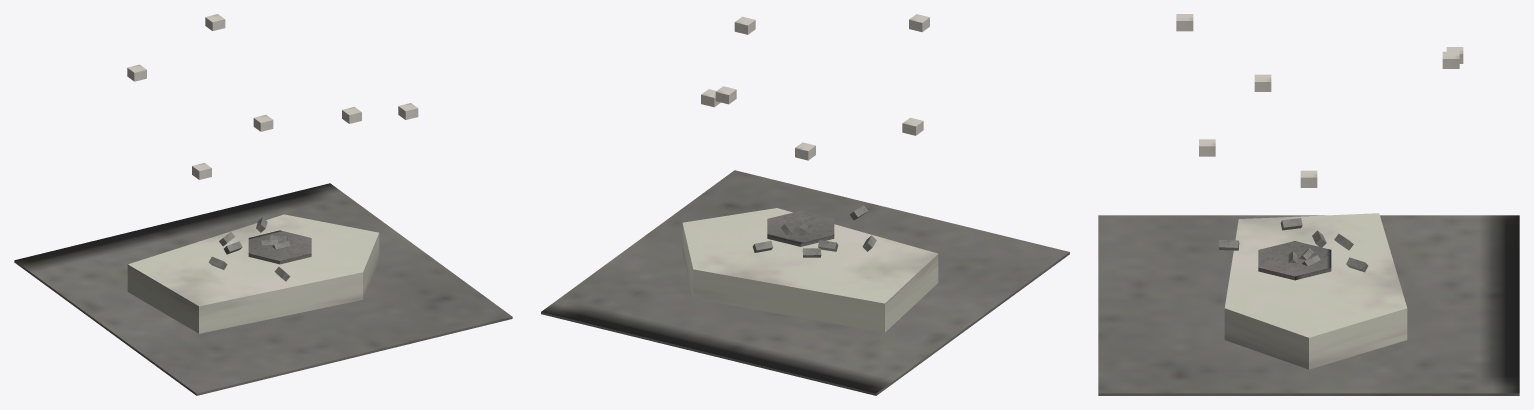
File: steak_rotten.fbx
3 views of the same model, side by side, from view 1: azimuth 30°, elevation 25°; view 2: azimuth 150°, elevation 25°; view 3: azimuth 270°, elevation 25° (orthographic). The views are drawn at different scales.
Visible parts, largest first — view 1: steak_rotten, steak_rotten_flies; view 2: steak_rotten, steak_rotten_flies; view 3: steak_rotten, steak_rotten_flies.
Part boxes in pixels (x1,y1,x2,y2): steak_rotten: (14, 183, 512, 395); steak_rotten_flies: (127, 14, 418, 179); steak_rotten: (541, 170, 1069, 395); steak_rotten_flies: (701, 14, 929, 160); steak_rotten: (1098, 213, 1519, 395); steak_rotten_flies: (1176, 14, 1463, 187).
Bounding box in the file's own units: 0.3 × 0.2035 × 0.3.
